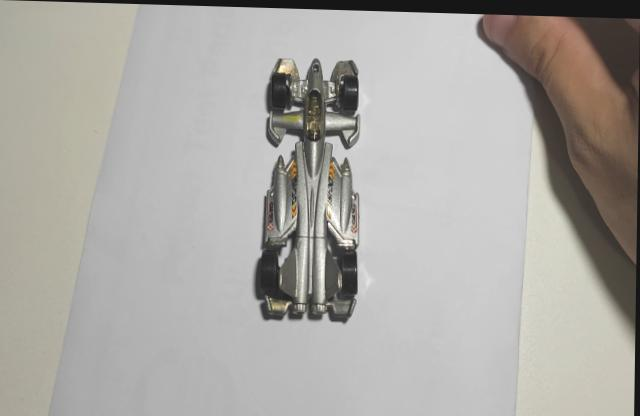05_DC121: (253, 57, 363, 323)
